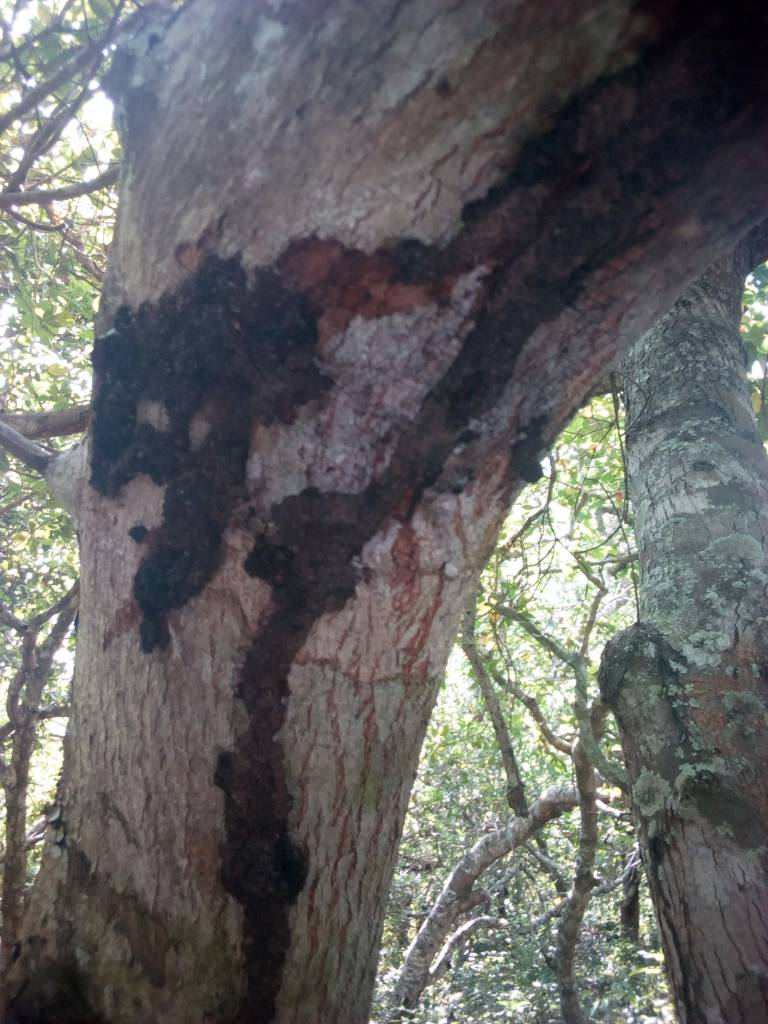Termites: (438, 11, 746, 392), (86, 289, 285, 602), (205, 627, 319, 1024)
